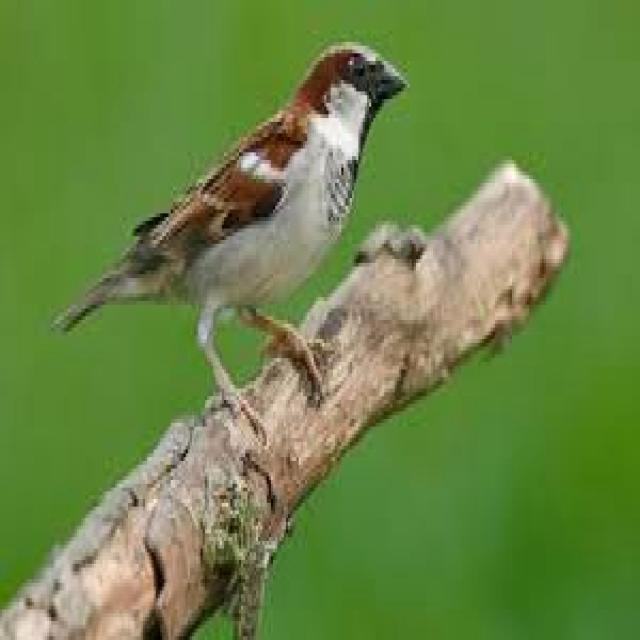sparrow: (55, 42, 405, 438)
